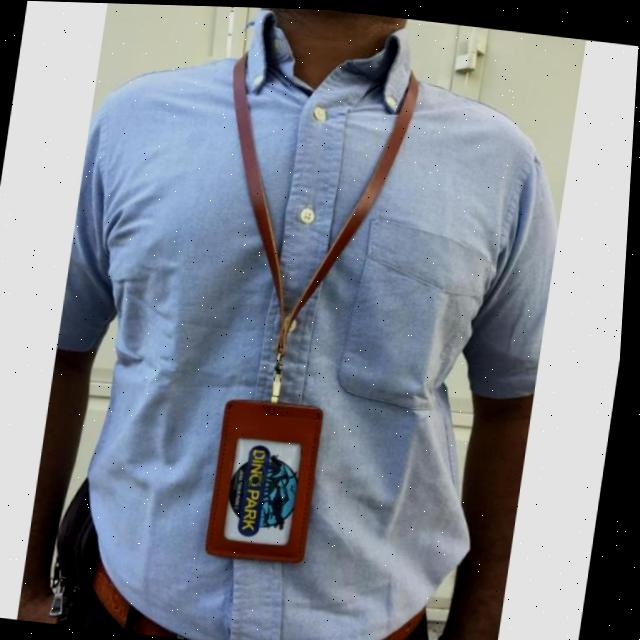id_card: (148, 47, 423, 574)
